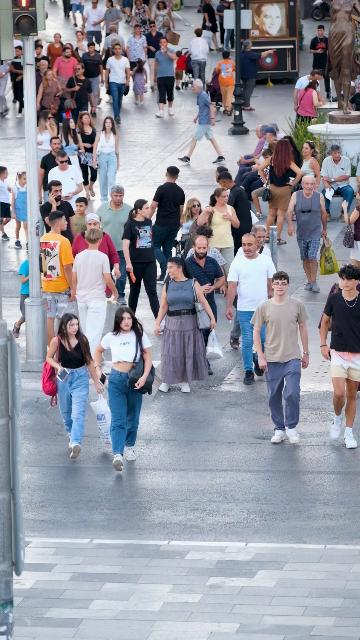person: (249, 271, 312, 445), (93, 306, 153, 472), (154, 257, 217, 394), (46, 313, 104, 459), (226, 232, 277, 385), (319, 265, 360, 449), (72, 226, 119, 361), (39, 210, 77, 349), (286, 175, 328, 293), (145, 166, 186, 285), (258, 139, 304, 244), (96, 184, 134, 307), (122, 199, 160, 320), (183, 235, 228, 333), (193, 187, 241, 277), (71, 213, 122, 297), (178, 78, 226, 165), (215, 171, 254, 261), (233, 40, 276, 111), (319, 145, 355, 223), (92, 116, 120, 206), (39, 180, 78, 242), (38, 136, 72, 205), (104, 43, 131, 124), (48, 149, 84, 206), (75, 111, 98, 200), (154, 37, 178, 118), (0, 45, 25, 119), (52, 47, 80, 110), (80, 42, 105, 112), (36, 69, 66, 127), (308, 24, 330, 103), (65, 63, 97, 117), (176, 197, 204, 256), (12, 249, 30, 337), (294, 68, 325, 119), (295, 79, 326, 127), (9, 171, 28, 249), (214, 49, 236, 116), (143, 21, 163, 92), (295, 140, 321, 194), (125, 24, 148, 85), (58, 117, 81, 177), (189, 28, 212, 84), (36, 110, 59, 164), (82, 0, 105, 53), (0, 166, 15, 241), (129, 58, 149, 108), (101, 25, 127, 60), (129, 0, 152, 38), (69, 197, 89, 237), (102, 0, 123, 34), (174, 50, 190, 90), (47, 33, 63, 69), (35, 43, 50, 81), (73, 31, 88, 61), (35, 59, 48, 90), (61, 43, 80, 63), (121, 0, 134, 23), (215, 166, 228, 186)
